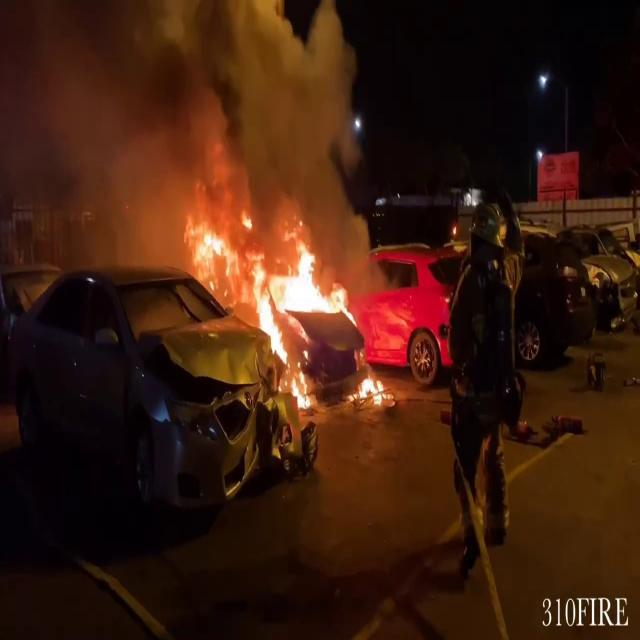Fire: (186, 208, 346, 412), (353, 364, 391, 410)
Smoke: (0, 0, 260, 282)
